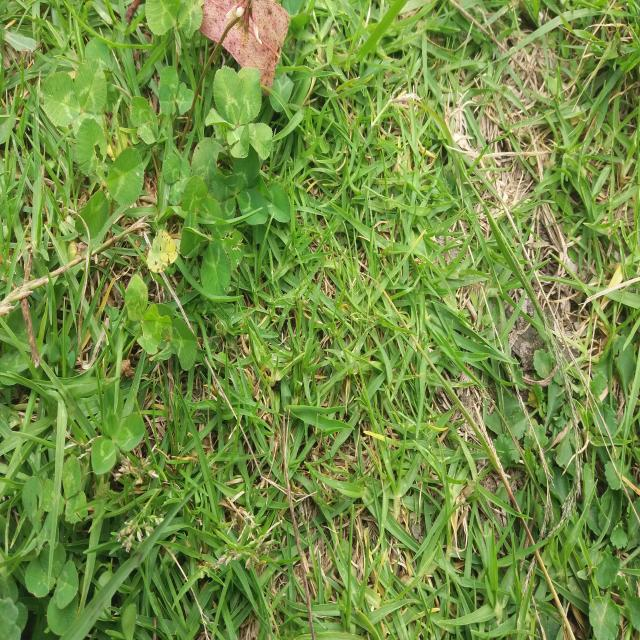Four Leaf Clover: (347, 439, 409, 545), (205, 65, 273, 160)
